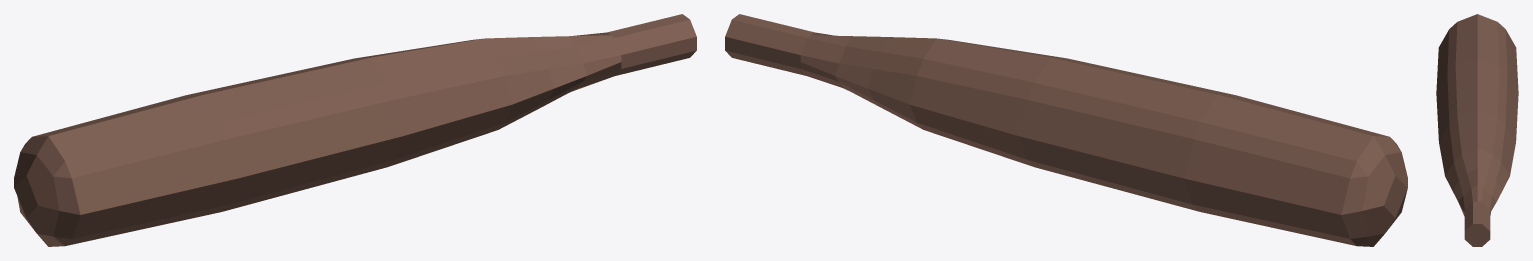
The model's file is gourdin.fbx.
The picture shows the model from 3 angles, left to right: view 1: azimuth 30°, elevation 25°; view 2: azimuth 150°, elevation 25°; view 3: azimuth 270°, elevation 25°; orthographic projection. The views are drawn at different scales.
Visible parts, largest first — view 1: Cube; view 2: Cube; view 3: Cube.
Boxes of the visible parts, x1,y1,x2,y2 form: Cube: (14,14,696,246); Cube: (725,14,1407,246); Cube: (1436,14,1518,246).
Size of the model in its own units: 678 by 116 by 121.
